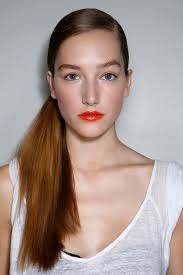person: (46, 8, 134, 140)
